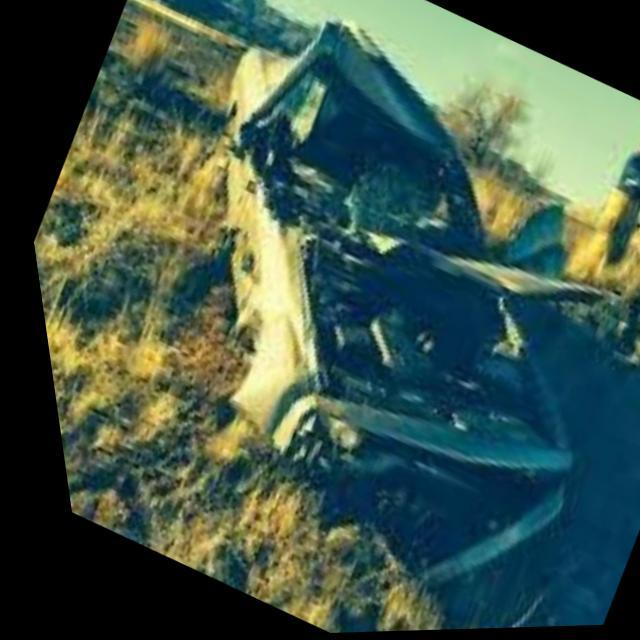crash: (222, 38, 560, 530)
